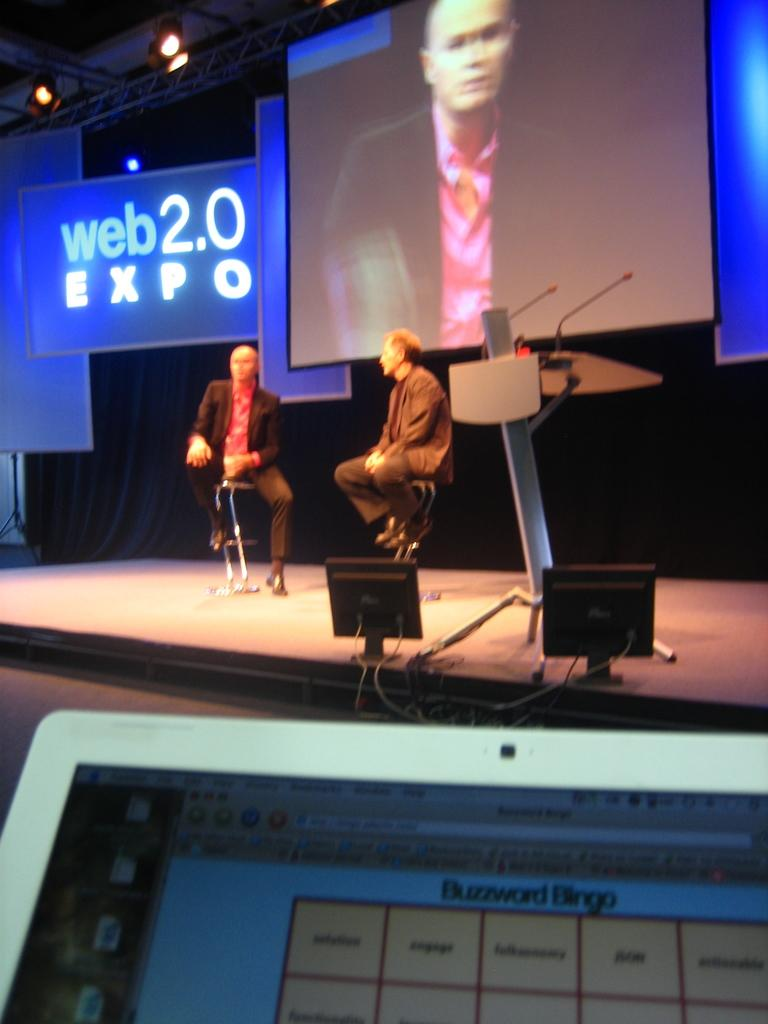Computer-monitor: (524, 560, 666, 684), (329, 557, 427, 665)
